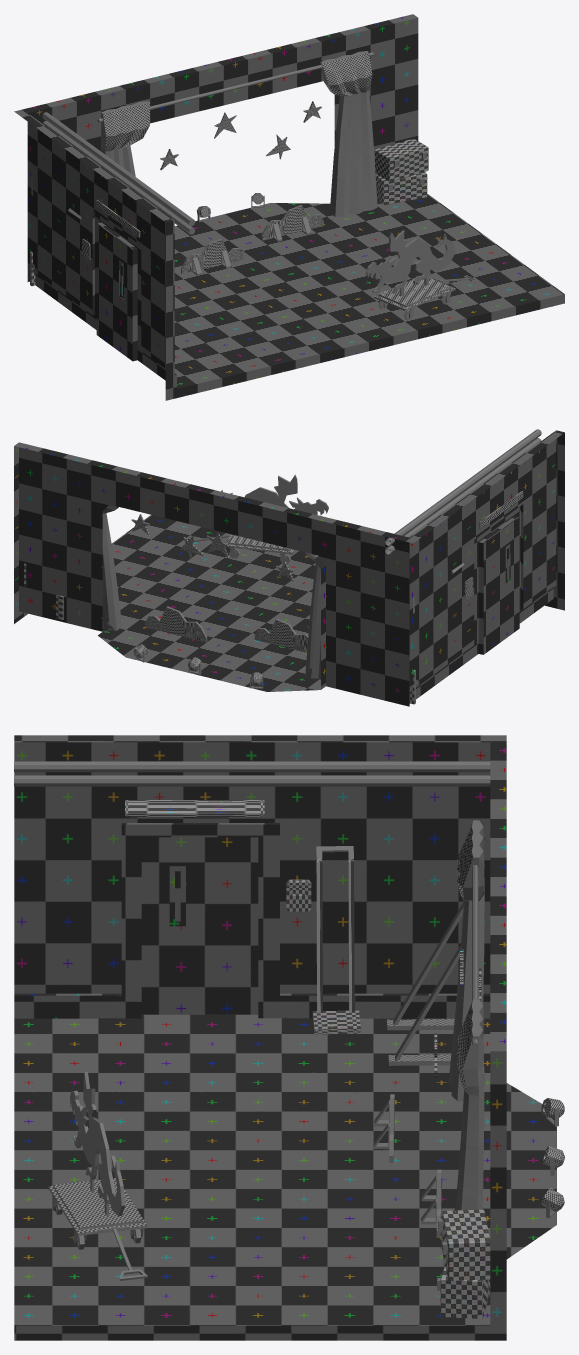
File: stage_working.gltf
3 renders of one model, top to bottom at view 1: azimuth 30°, elevation 25°; view 2: azimuth 150°, elevation 25°; view 3: azimuth 270°, elevation 25°, orthographic. The views are drawn at different scales.
Visible parts, largest first — view 1: stage_base; view 2: stage_base; view 3: stage_base.
Part boxes in pixels (left/top/right/bottom): stage_base: left=14, top=14, right=564, bottom=400; stage_base: left=14, top=429, right=564, bottom=706; stage_base: left=14, top=735, right=564, bottom=1340.
Size of the model in its own units: 22.78 by 9.72 by 16.78.
1 material, 1 textured.
